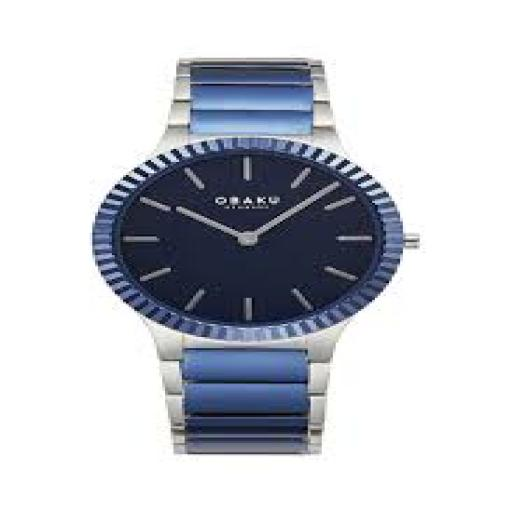KolSaati: (78, 32, 441, 479)
